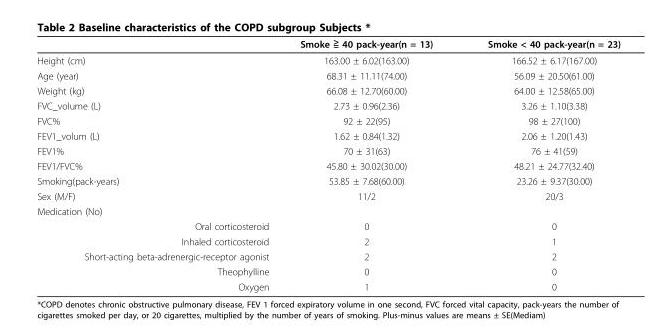table: (36, 36, 619, 291)
table column: (36, 36, 283, 291), (283, 36, 459, 291), (459, 36, 619, 291)
table column header: (36, 36, 619, 52)
table projected row header: (36, 203, 619, 218)
table row: (36, 36, 619, 52), (36, 97, 619, 113), (36, 52, 619, 67), (36, 67, 619, 82), (36, 82, 619, 97), (36, 113, 619, 128), (36, 128, 619, 143), (36, 143, 619, 158), (36, 158, 619, 173), (36, 173, 619, 188), (36, 188, 619, 203), (36, 203, 619, 218), (36, 218, 619, 233), (36, 233, 619, 248), (36, 248, 619, 263), (36, 263, 619, 278), (36, 278, 619, 291)
